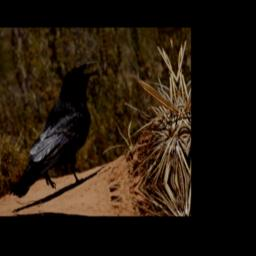Crow: (0, 61, 113, 200)
